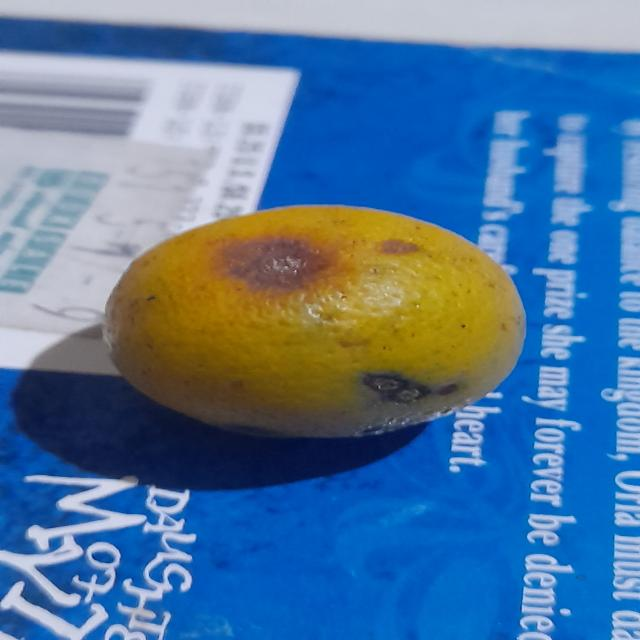black spot: (101, 206, 533, 442)
